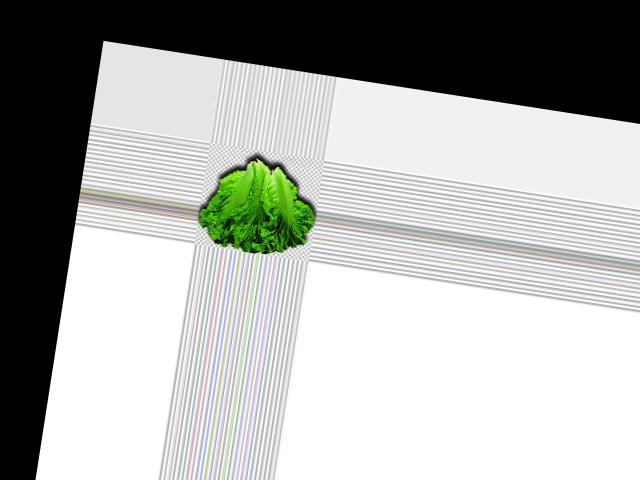lettuce: (197, 149, 325, 261)
